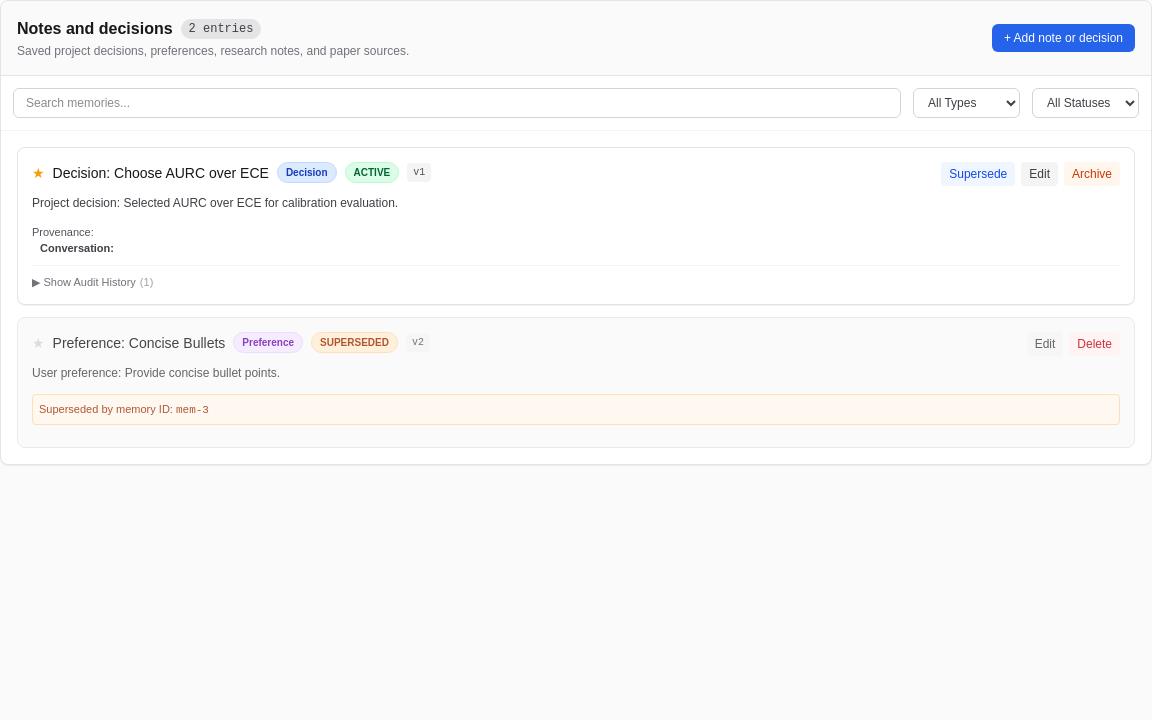
Test: MemoryInspector Component › displays client validation error when attempting to supersede with identical content
Expected: the heading "Decision: Choose AURC over ECE" is shown, x1=53 y1=162 x2=269 y2=182
What coordinates should you click on to do the following:
click the button "Supersede"
I would click on:
 (978, 174)
Its box is x1=941 y1=162 x2=1015 y2=186.
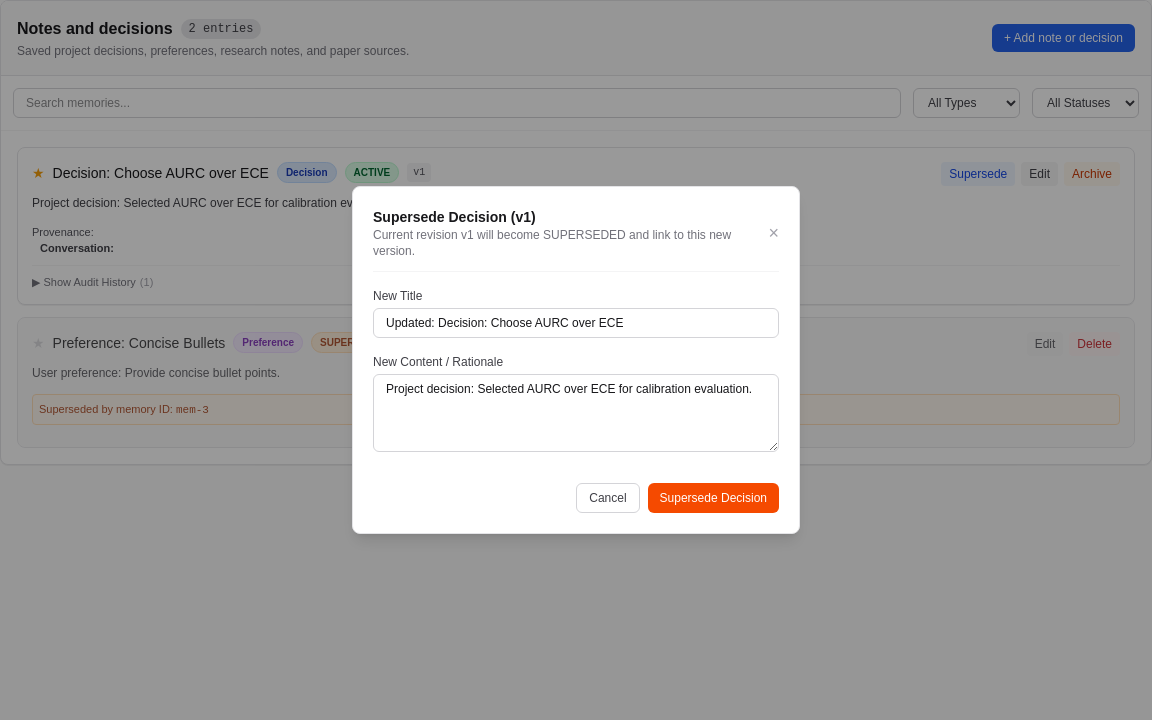
Note: Submit without modifying content
What coordinates should you click on to do the following:
click the button "Supersede Decision"
I would click on:
 (713, 498)
Its box is x1=648 y1=483 x2=779 y2=513.
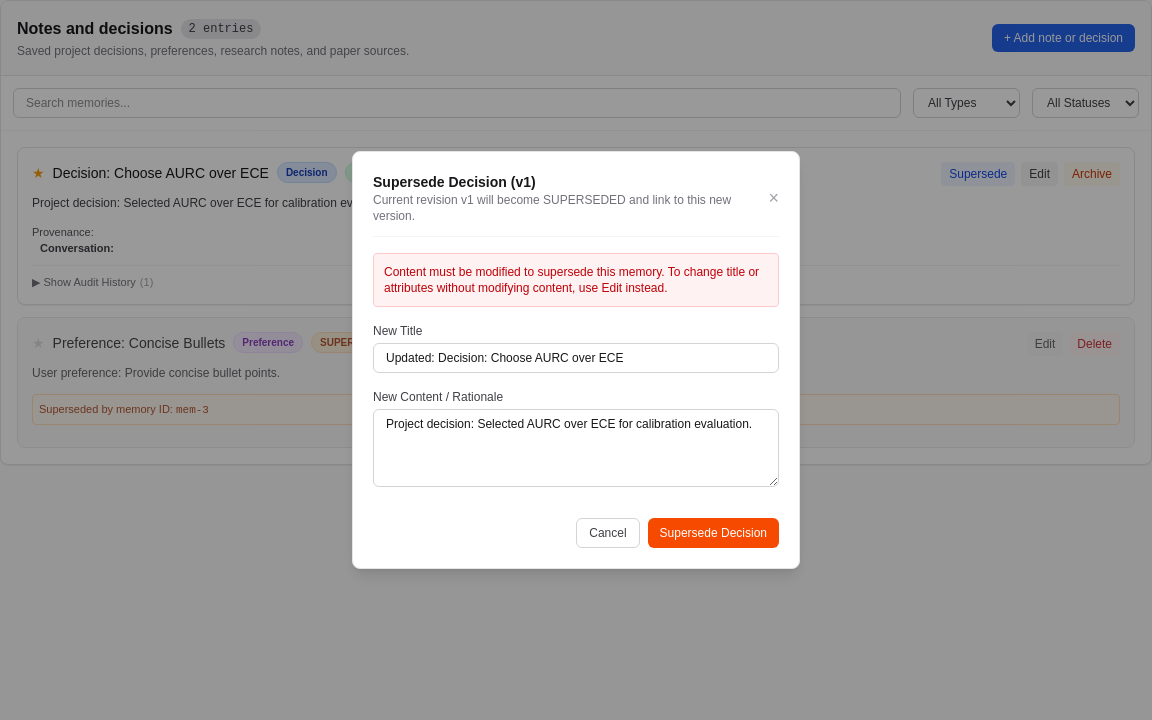
Expected: the text "Content must be modified to supersede this memory" is shown, x1=384 y1=265 x2=759 y2=295
